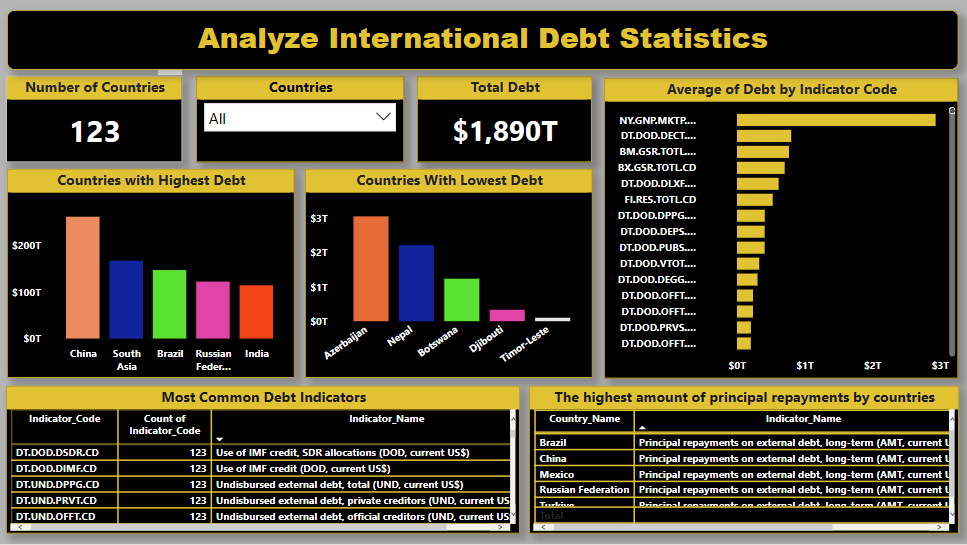

Layout of this report page (visuals, bound fields, positions):
{"tool":"powerbi","page":{"name":"Page 1","canvas":[1280,720],"ordinal":0},"visuals":[{"type":"card","title":"Total Debt","fields":{"Values":["Sum(internship international_debt_data.Debt)"]},"box":[552.5,102.4,231.4,113.6],"z":0},{"type":"slicer","title":"Countries","fields":{"Values":["internship international_debt_data.Country_Name"]},"box":[260.8,102.4,274.8,113.6],"z":1000},{"type":"card","title":"Number of Countries","fields":{"Values":["Count(internship international_debt_data.Country_Code)"]},"box":[9.8,102.4,232.8,113.6],"z":2000},{"type":"clusteredColumnChart","title":"Countries with Highest Debt","fields":{"Category":["internship international_debt_data.Country_Name"],"Y":["Sum(internship international_debt_data.Debt)"]},"box":[10.4,224.3,379.5,276],"z":3000},{"type":"clusteredColumnChart","title":"Countries With Lowest Debt","fields":{"Category":["internship international_debt_data.Country_Name"],"Y":["Sum(internship international_debt_data.Debt)"]},"box":[403.9,224.4,380,276.2],"z":4000},{"type":"barChart","title":"Average of Debt by Indicator Code","fields":{"Category":["internship international_debt_data.Indicator_Code"],"Y":["Avg(internship international_debt_data.Debt)"]},"box":[799.3,103.8,468.4,396.8],"z":5000},{"type":"tableEx","title":"Most Common Debt Indicators ","fields":{"Values":["internship international_debt_data.Indicator_Code","CountNonNull(internship international_debt_data.Indicator_Code)","internship international_debt_data.Indicator_Name"]},"box":[9.8,511.8,678.7,194.9],"z":6000},{"type":"textbox","box":[9.9,14.2,1257.3,79.4],"z":7000},{"type":"tableEx","title":"The highest amount of principal repayments by countries","fields":{"Values":["internship international_debt_data.Country_Name","internship international_debt_data.Indicator_Name","Max(internship international_debt_data.Debt)"]},"box":[699.7,511.8,567.9,194.9],"z":8000}]}

Visuals, with their boxes in screenshot pixels (x1, y1, x2, y2), scaled from the page's 1280x720 canvas onto the 967x545 screenshot:
"Total Debt" card: [left=417, top=78, right=592, bottom=164]
"Countries" slicer: [left=197, top=78, right=405, bottom=164]
"Number of Countries" card: [left=7, top=78, right=183, bottom=164]
"Countries with Highest Debt" clusteredColumnChart: [left=8, top=170, right=295, bottom=379]
"Countries With Lowest Debt" clusteredColumnChart: [left=305, top=170, right=592, bottom=379]
"Average of Debt by Indicator Code" barChart: [left=604, top=79, right=958, bottom=379]
"Most Common Debt Indicators " tableEx: [left=7, top=387, right=520, bottom=535]
textbox: [left=7, top=11, right=957, bottom=71]
"The highest amount of principal repayments by countries" tableEx: [left=529, top=387, right=958, bottom=535]
